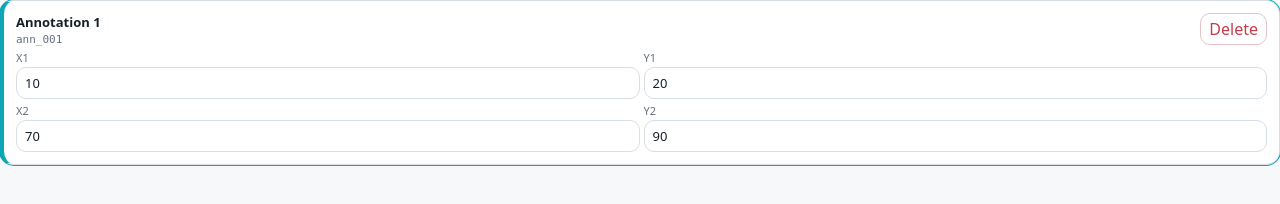
Test case: allows temporary coordinate strings then rejects nonfinite input and restores legal values
The image size is (1280, 204).
Replace the text in the field labelled "X1" with "-": x=328, y=83 [16, 67, 640, 99]
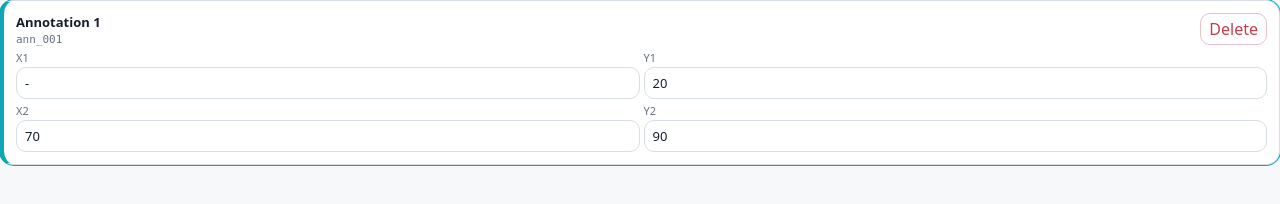
Replace the text in the field labelled "X1" with "Infinity": x=328, y=83 [16, 67, 640, 99]
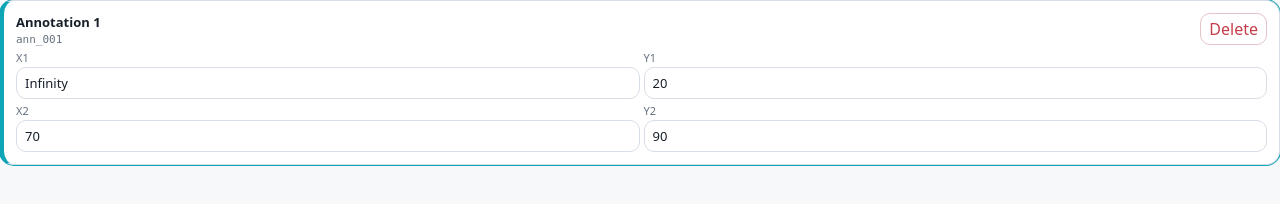
Leave the field labelled "X1", box [16, 67, 640, 99]
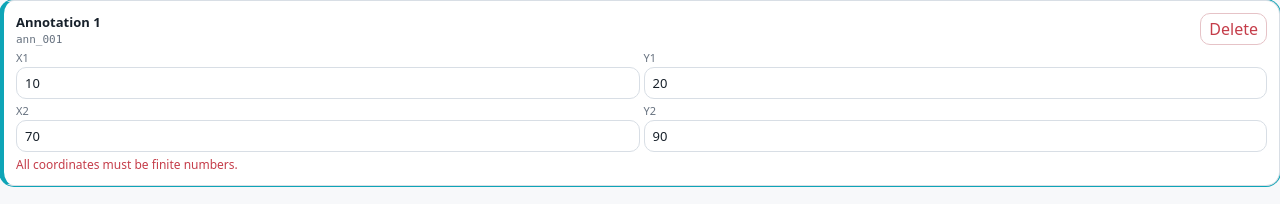
Expected: the field labelled "Y1" holds "20", [644, 67, 1267, 99]
Now the message reads "All coordinates must be finite numbers.", box [16, 156, 238, 173]
Now the field labelled "X1" holds "10", box [16, 67, 640, 99]
